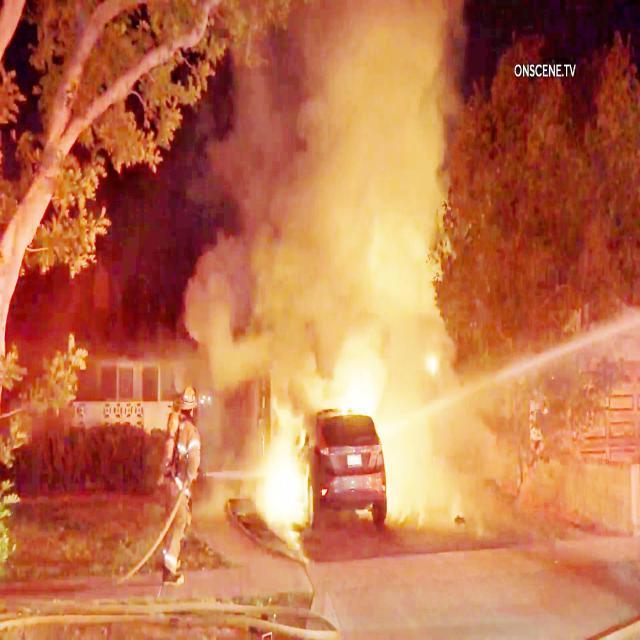Fire: (246, 448, 280, 520), (335, 376, 383, 414)
Smoke: (253, 0, 443, 209), (185, 217, 422, 346), (380, 424, 458, 522)
